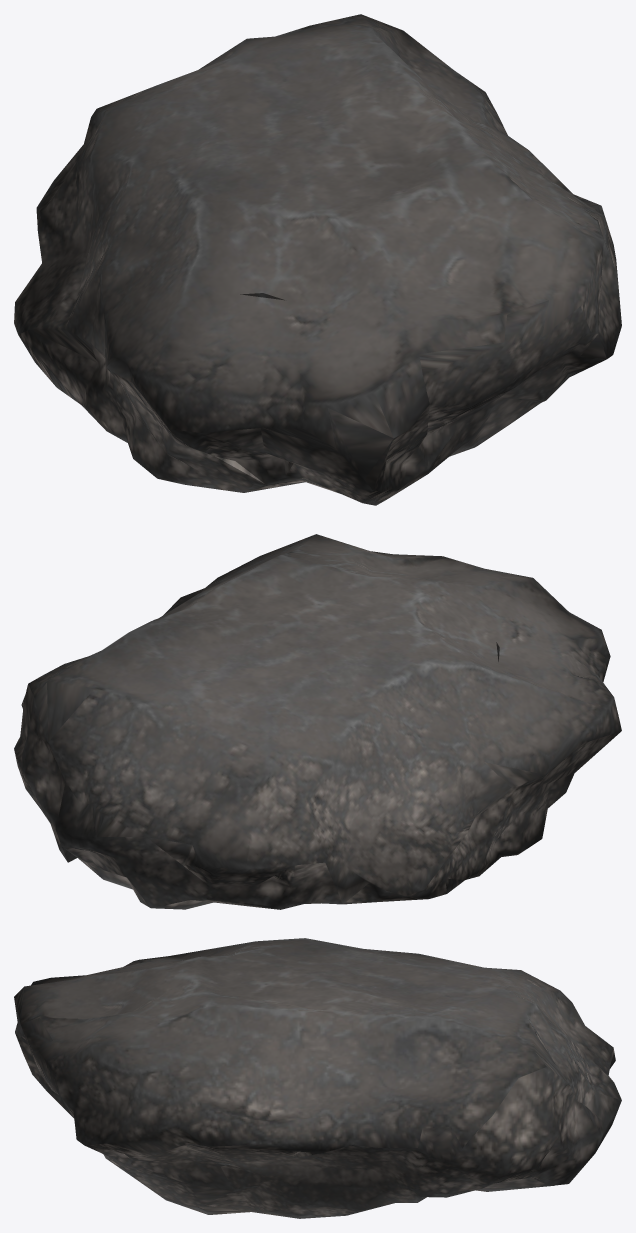
File: Rock_medium_07_GREY.fbx
3 views of the same model, one above another, from view 1: azimuth 30°, elevation 25°; view 2: azimuth 150°, elevation 25°; view 3: azimuth 270°, elevation 25° (orthographic). The views are drawn at different scales.
Visible parts, largest first — view 1: Rock_medium_07_GREY; view 2: Rock_medium_07_GREY; view 3: Rock_medium_07_GREY.
Boxes of the visible parts, x1,y1,x2,y2 form: Rock_medium_07_GREY: (14,14,621,505); Rock_medium_07_GREY: (14,534,621,909); Rock_medium_07_GREY: (14,938,621,1218).
Bounding box in the file's own units: 0.4081 × 0.2057 × 0.5233.
1 material, 1 textured.
